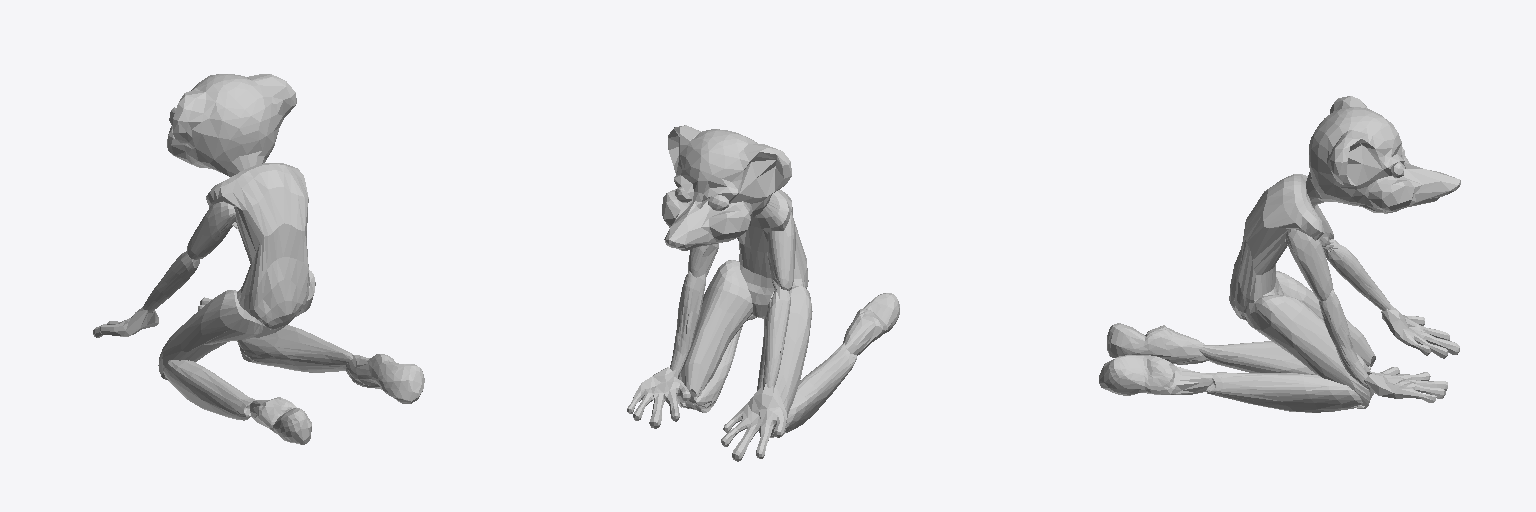
Rendered from rat_head_on_clown_body_test_head_attached.obj.
3 views of the same model, side by side, from view 1: azimuth 30°, elevation 25°; view 2: azimuth 150°, elevation 25°; view 3: azimuth 270°, elevation 25° (orthographic).
Visible parts, largest first — view 1: Torso_Sphere.007, Eyes_Sphere.003, shin_Sphere.015, feet_Sphere.018, Thigh_Sphere.009, Bicep_Sphere.004, Tricep_Sphere.005, Hand_Cube.001; view 2: Eyes_Sphere.003, Thigh_Sphere.009, Hand_Cube.001, Torso_Sphere.007, Tricep_Sphere.005, shin_Sphere.015, Bicep_Sphere.004, feet_Sphere.018; view 3: Eyes_Sphere.003, shin_Sphere.015, Thigh_Sphere.009, Torso_Sphere.007, feet_Sphere.018, Hand_Cube.001, Tricep_Sphere.005, Bicep_Sphere.004.
Part boxes in pixels (x1,y1,x2,y2): Torso_Sphere.007: (206,163,309,329); Eyes_Sphere.003: (167,74,296,176); shin_Sphere.015: (163,325,352,420); feet_Sphere.018: (250,354,424,444); Thigh_Sphere.009: (158,270,315,380); Bicep_Sphere.004: (187,202,235,260); Tricep_Sphere.005: (143,251,199,312); Hand_Cube.001: (93,297,212,337); Eyes_Sphere.003: (662,125,791,250); Thigh_Sphere.009: (677,260,812,436); Hand_Cube.001: (627,367,786,461); Torso_Sphere.007: (737,190,808,318); Tricep_Sphere.005: (670,271,790,387); shin_Sphere.015: (680,326,856,437); Bicep_Sphere.004: (688,212,795,290); feet_Sphere.018: (747,293,899,355); Eyes_Sphere.003: (1306,96,1460,213); shin_Sphere.015: (1199,341,1370,412); Thigh_Sphere.009: (1244,271,1375,408); Torso_Sphere.007: (1229,174,1324,320); feet_Sphere.018: (1099,323,1212,395); Hand_Cube.001: (1364,303,1459,402); Tricep_Sphere.005: (1319,239,1390,388); Bicep_Sphere.004: (1286,204,1333,300).
Bounding box in the file's own units: 7.71 × 12.72 × 14.15.